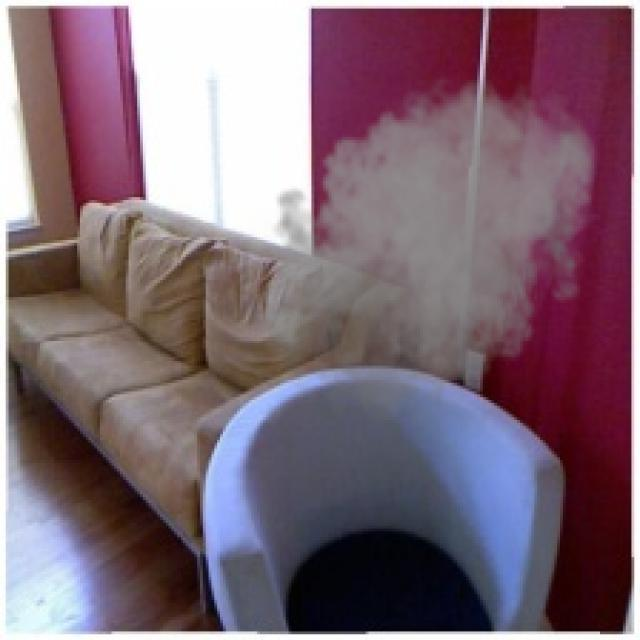Smoke: (251, 68, 603, 434)
